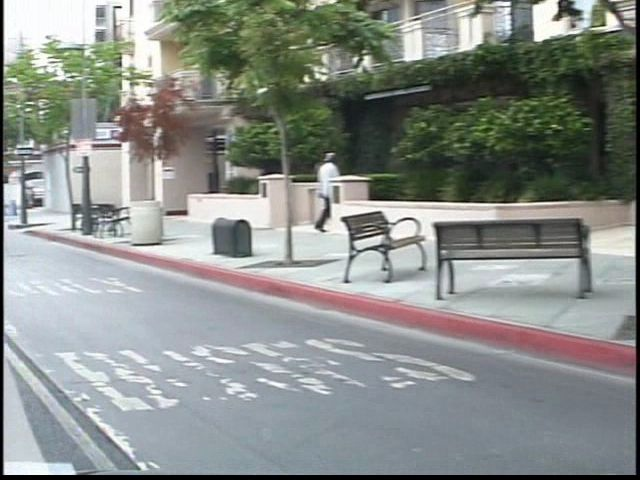person: (293, 145, 321, 237)
